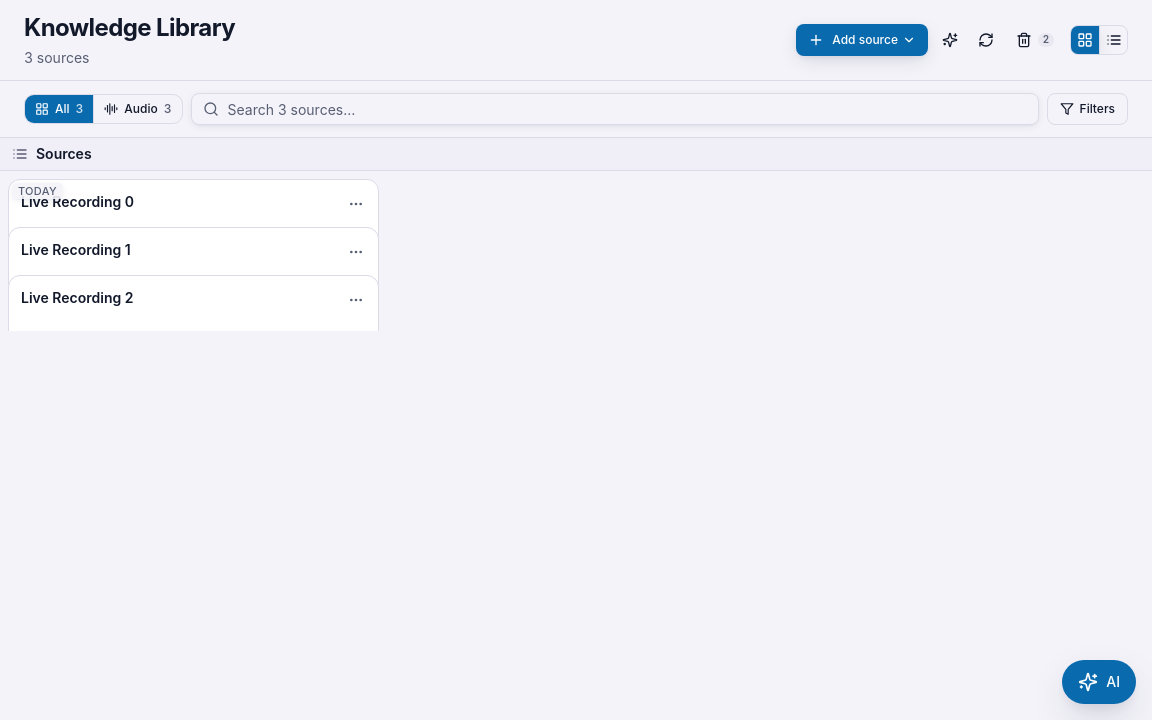
Scenario: Trash mode swaps the displayed list (AC#3, AC#10) › forces the SourceRow list even though viewMode is "card" (AC#10) — card-only markers absent
Click the button "2" at (1035, 40), box [1008,24,1062,56]
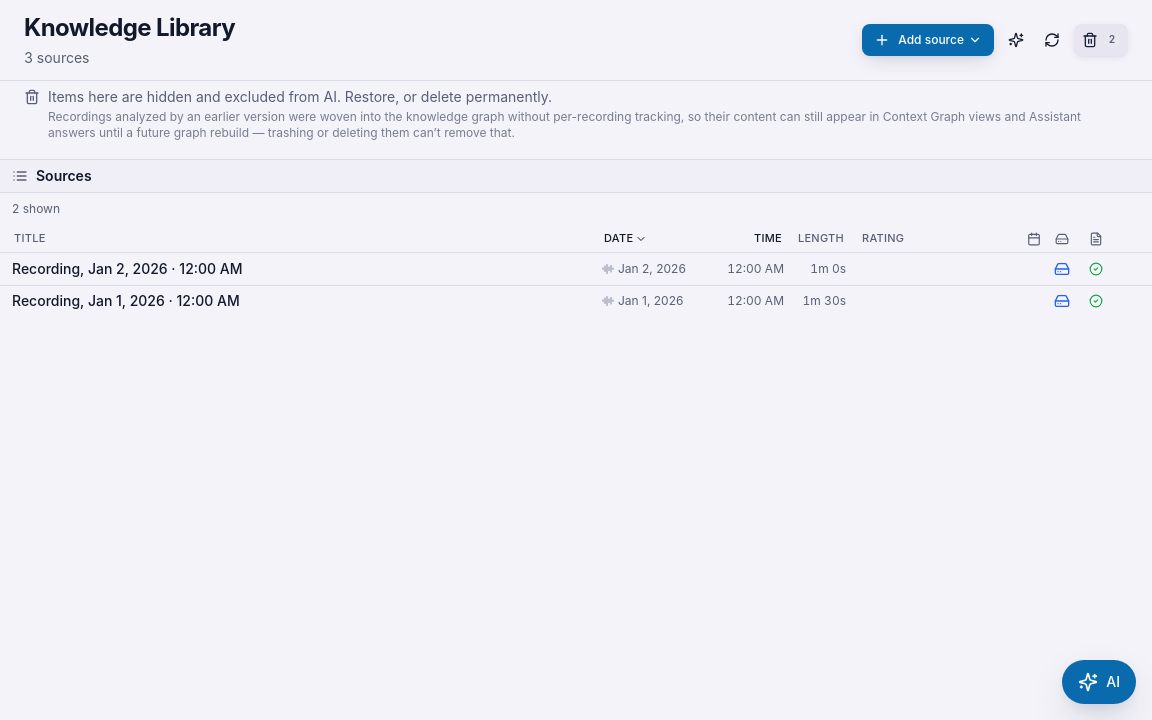
Result: the option with test id "source-row-trash-1" is shown at [12,260,1103,277]
Result: the option with test id "source-card" is gone
